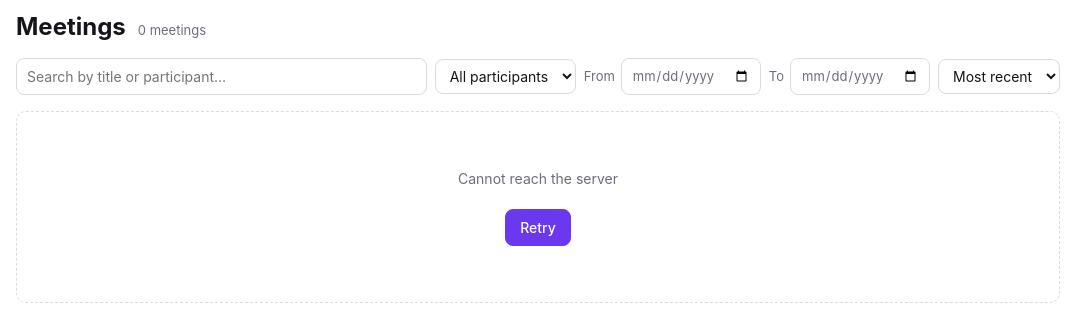
library › retries after a network error
Expected: the text "Cannot reach the server" is shown, [458, 168, 618, 189]
Step 1. Click the button "Retry" → (538, 228), box [505, 209, 571, 246]
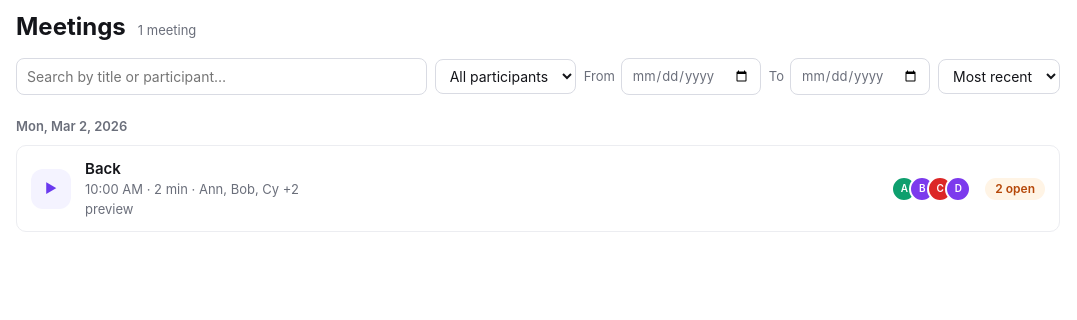
Now the text "Back" is shown, box [85, 159, 121, 178]
